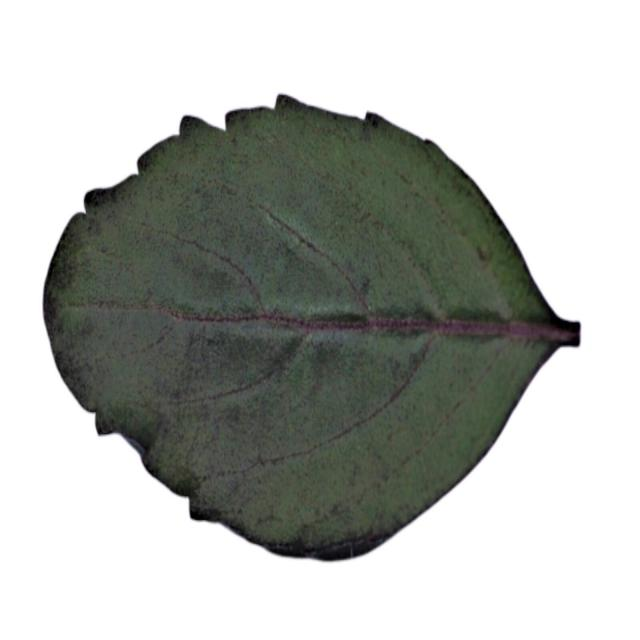tulsi: (43, 91, 587, 573)
